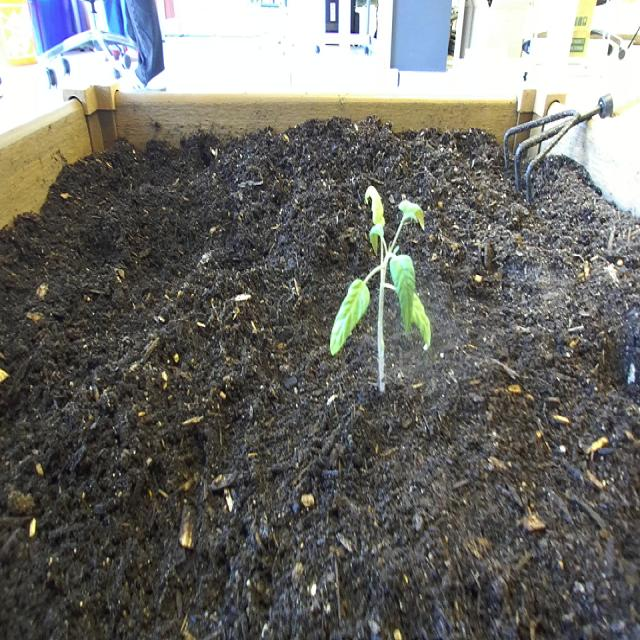Healthy: (327, 162, 440, 404)
